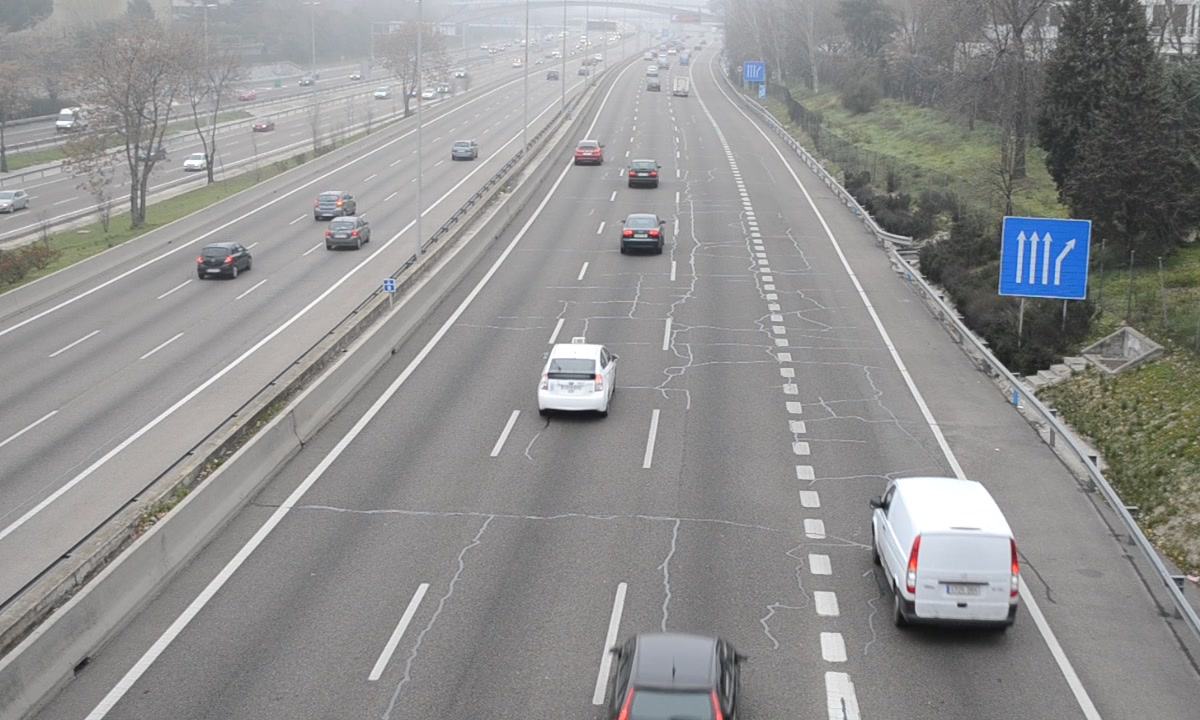car: (604, 636, 741, 720), (538, 343, 612, 412), (621, 213, 662, 251), (627, 157, 660, 187), (573, 138, 604, 166)
van: (873, 477, 1019, 631)
